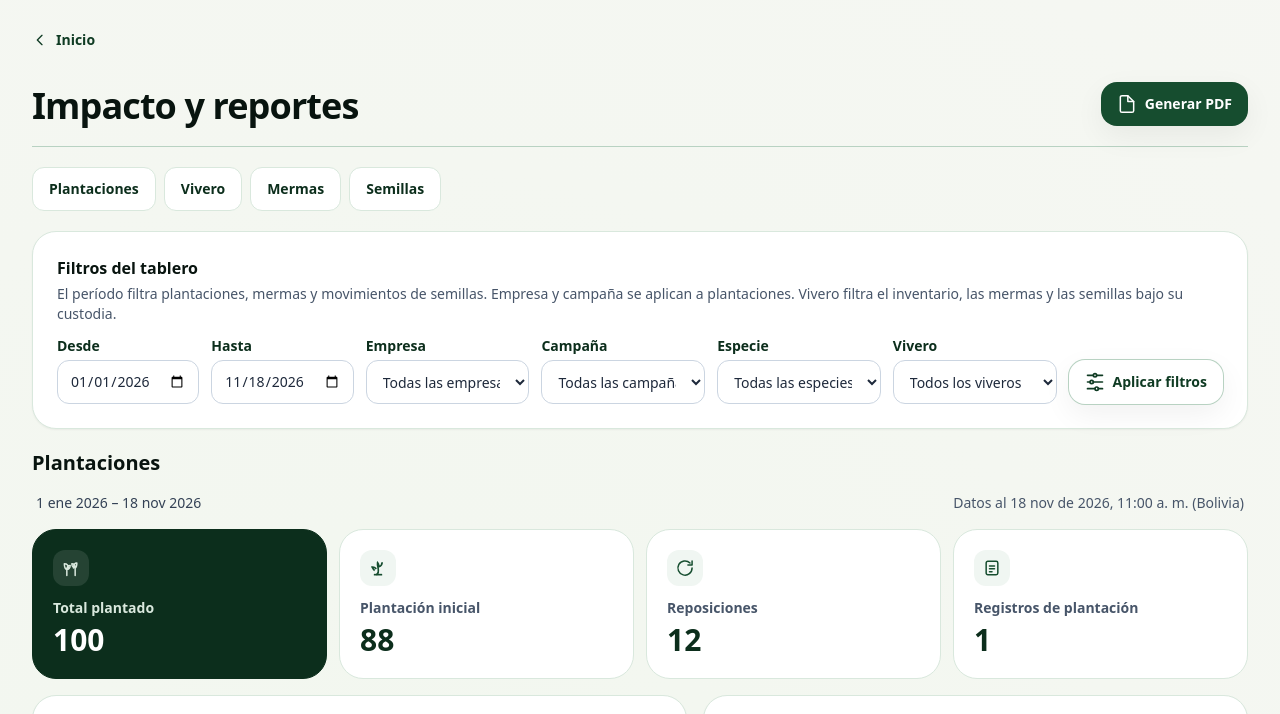
Impacto y reportes de plantaciones › explica un rechazo de exportación sin descargar el archivo
Click the button "Generar PDF". click: (1174, 104)
box: [1101,82,1248,126]
(page scrolled)
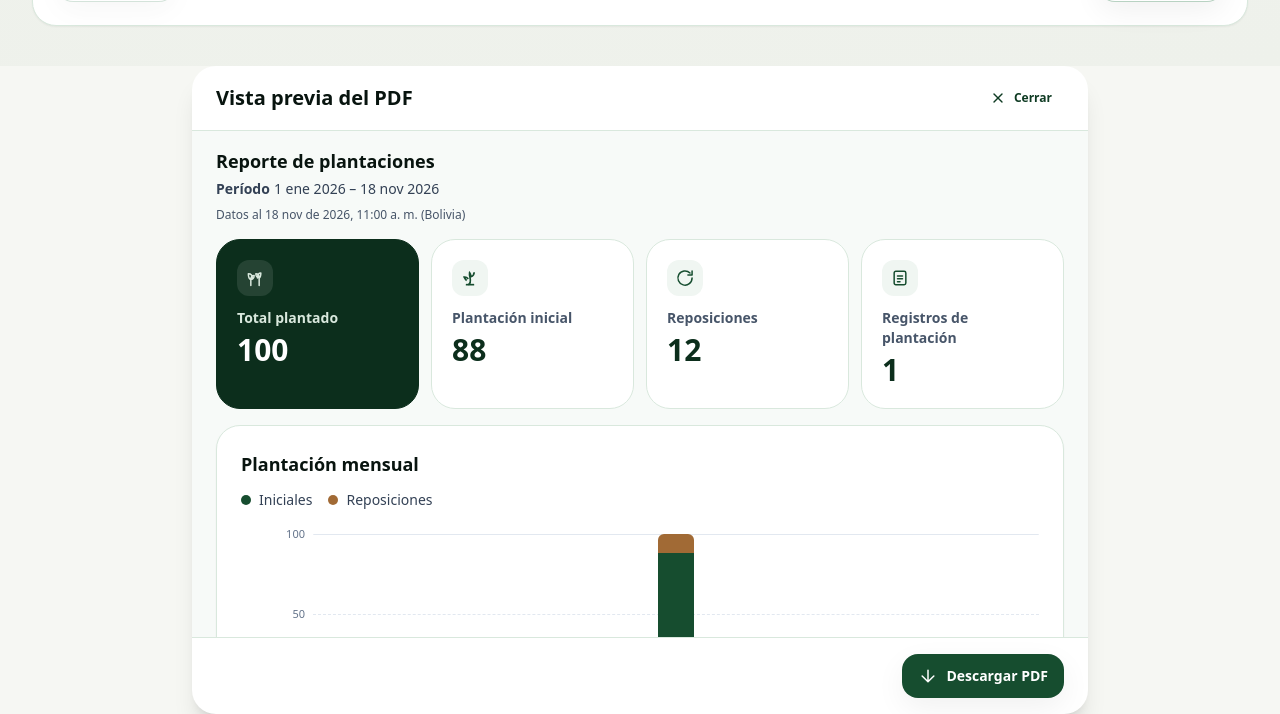
Click the button "Descargar PDF". click: (983, 676)
box: [902,654,1064,698]
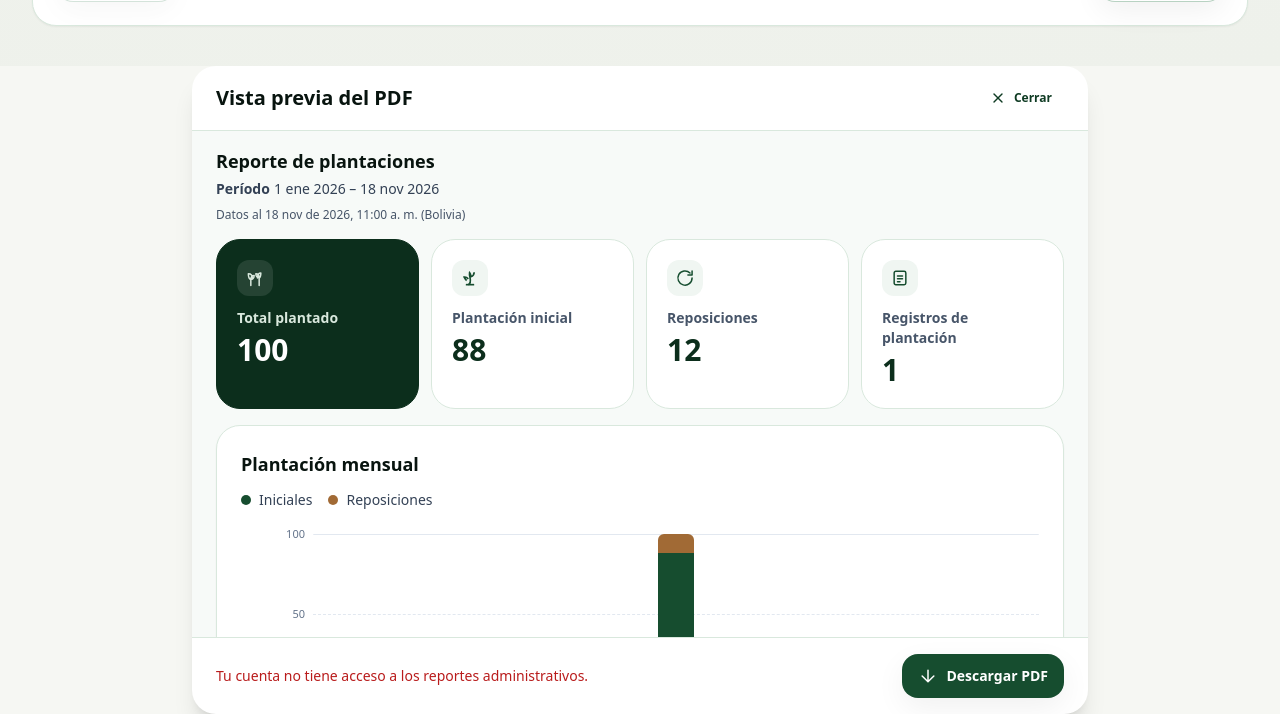
Expected: the message shows "Tu cuenta no tiene acceso", [216,666,588,685]
